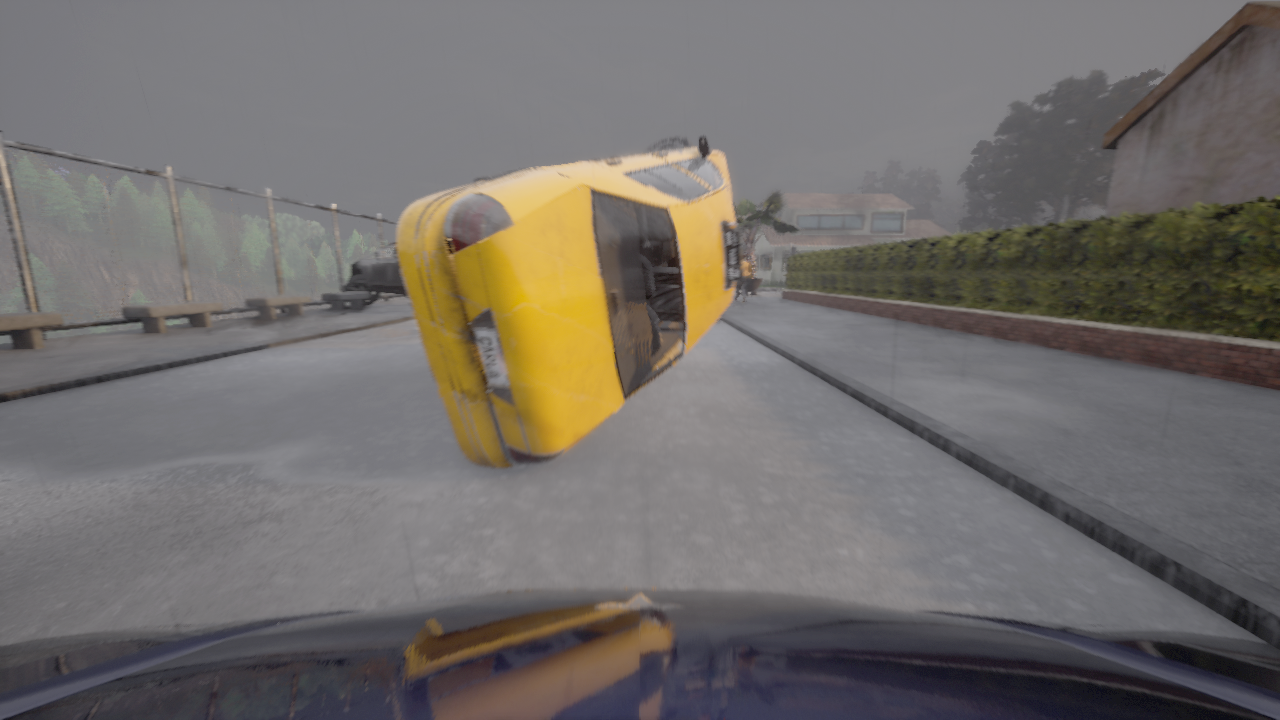cyclist: (0, 588, 1279, 719), (395, 135, 742, 468), (343, 242, 408, 306)
pedestrian: (734, 254, 750, 302)
